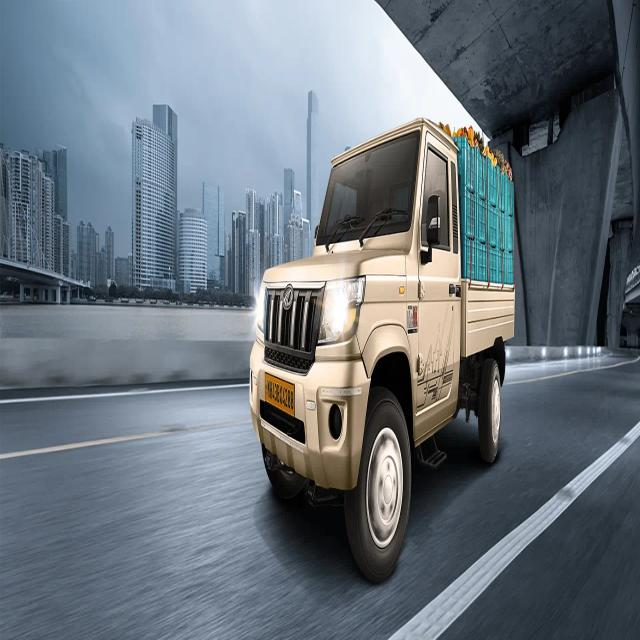light_vehicle: (250, 128, 516, 559)
